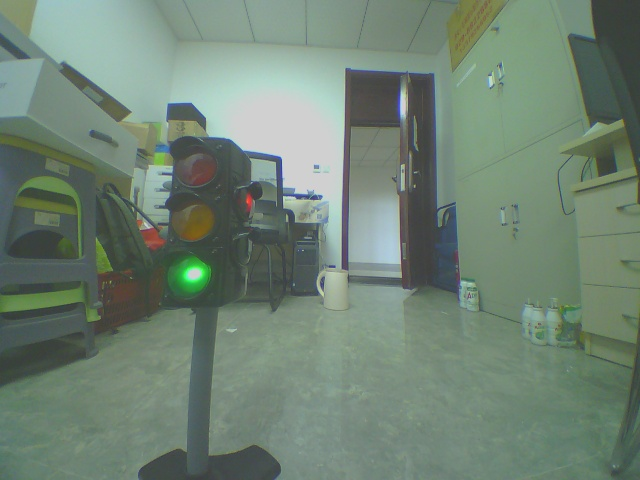Green: (147, 125, 248, 321)
